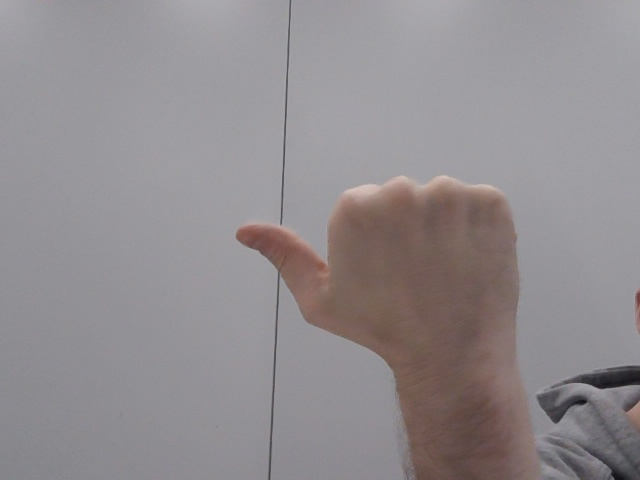right: (208, 166, 586, 363)
